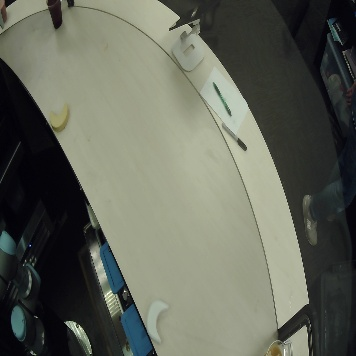full_cup: (47, 1, 63, 30), (1, 1, 8, 23)
puck: (146, 297, 170, 343), (49, 103, 70, 132)
